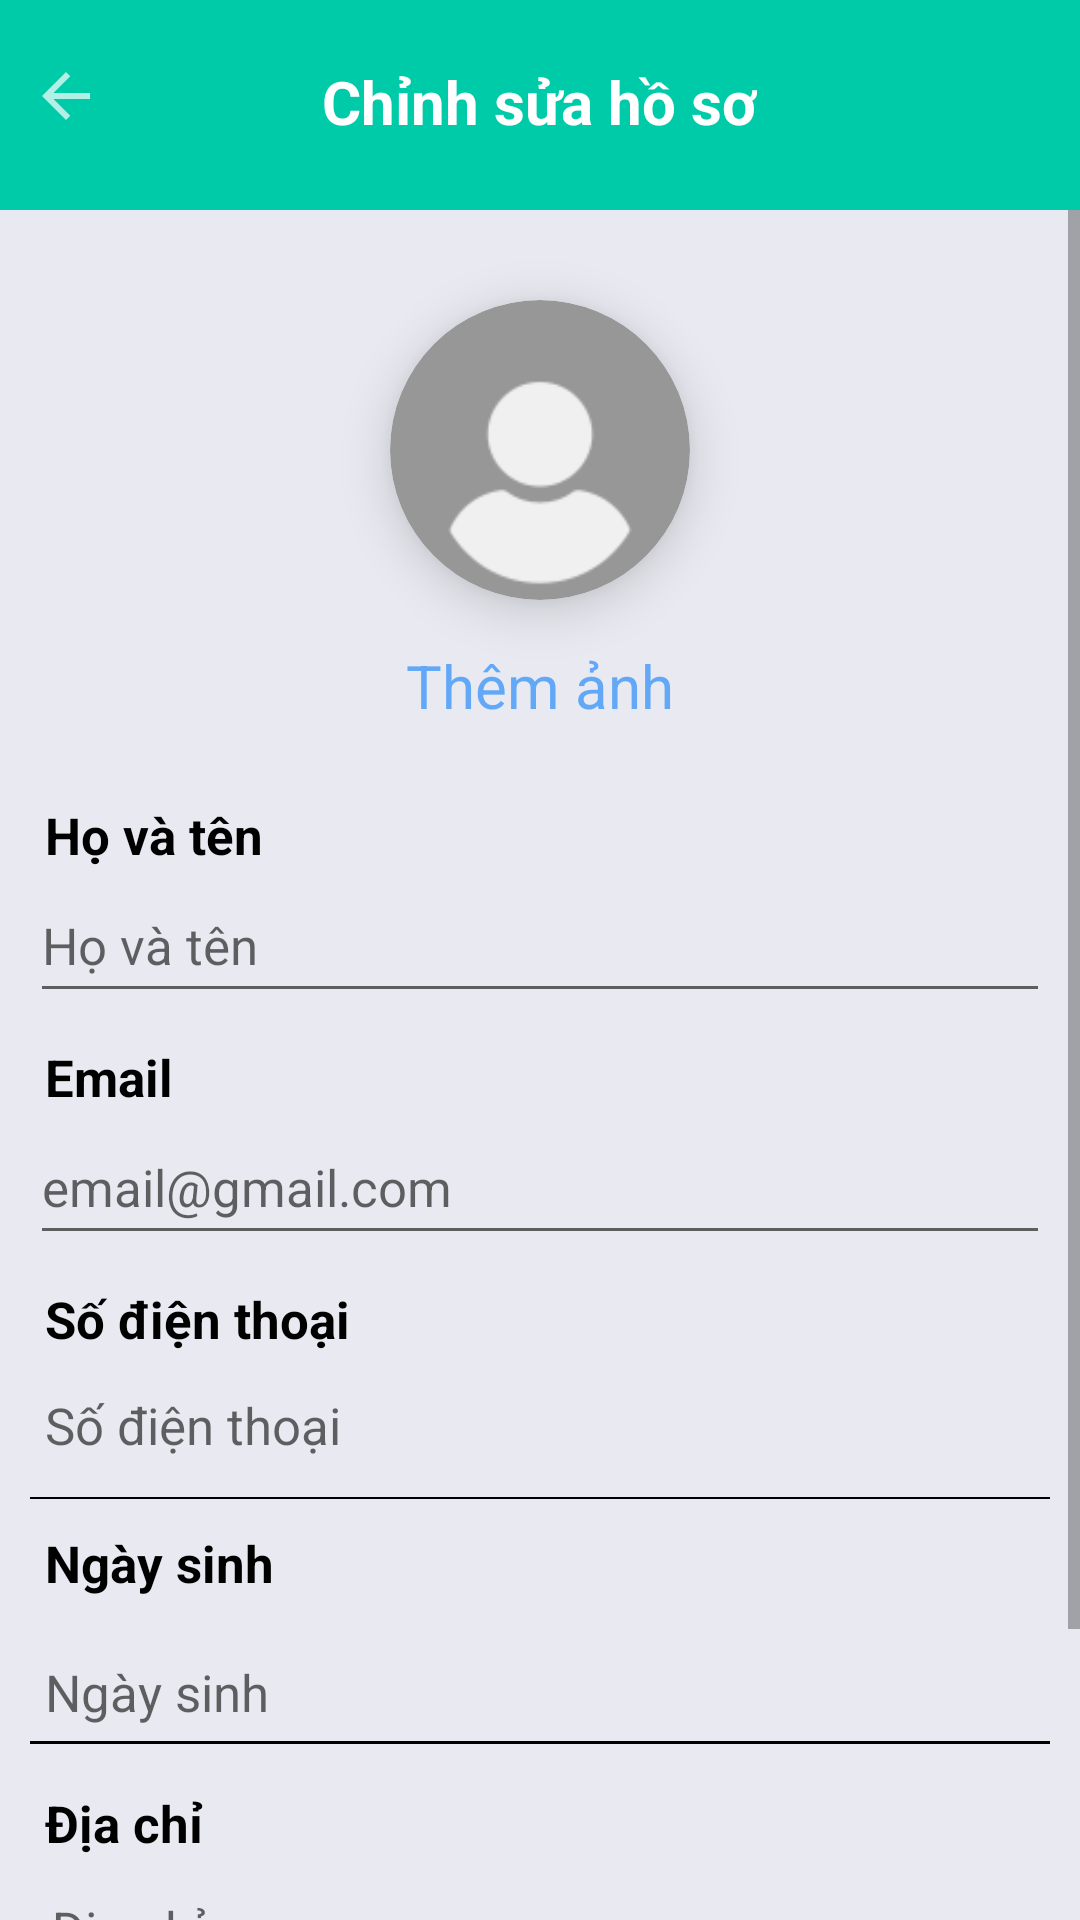

Icon click points for this 1080w x 1920h phone screenshot, format [x,y]:
arrow back: [66,96]
profile: [540,450]
